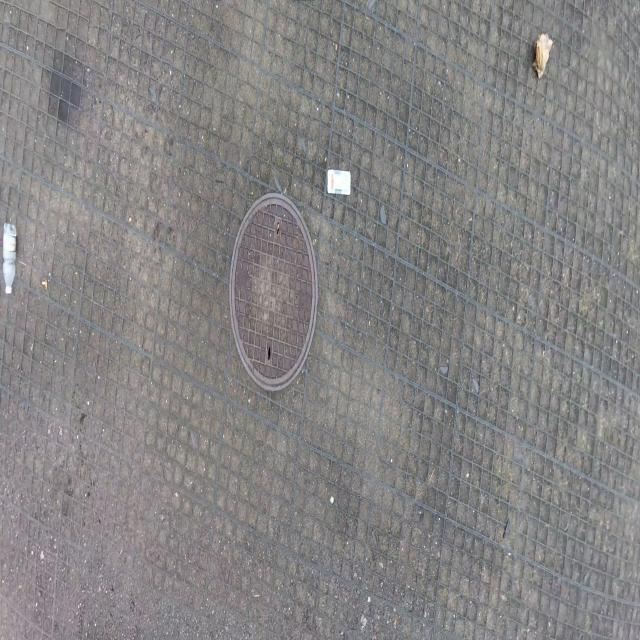rubbish: (531, 31, 554, 79), (3, 223, 18, 294), (326, 170, 351, 194)
